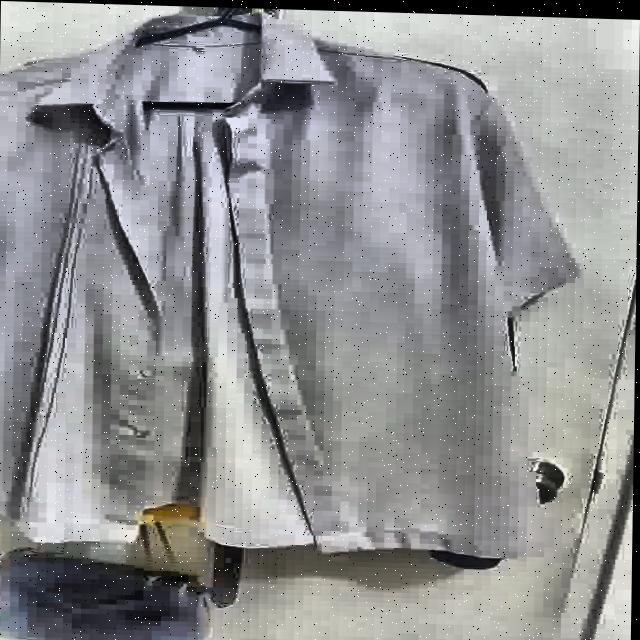clothes: (0, 3, 579, 577)
